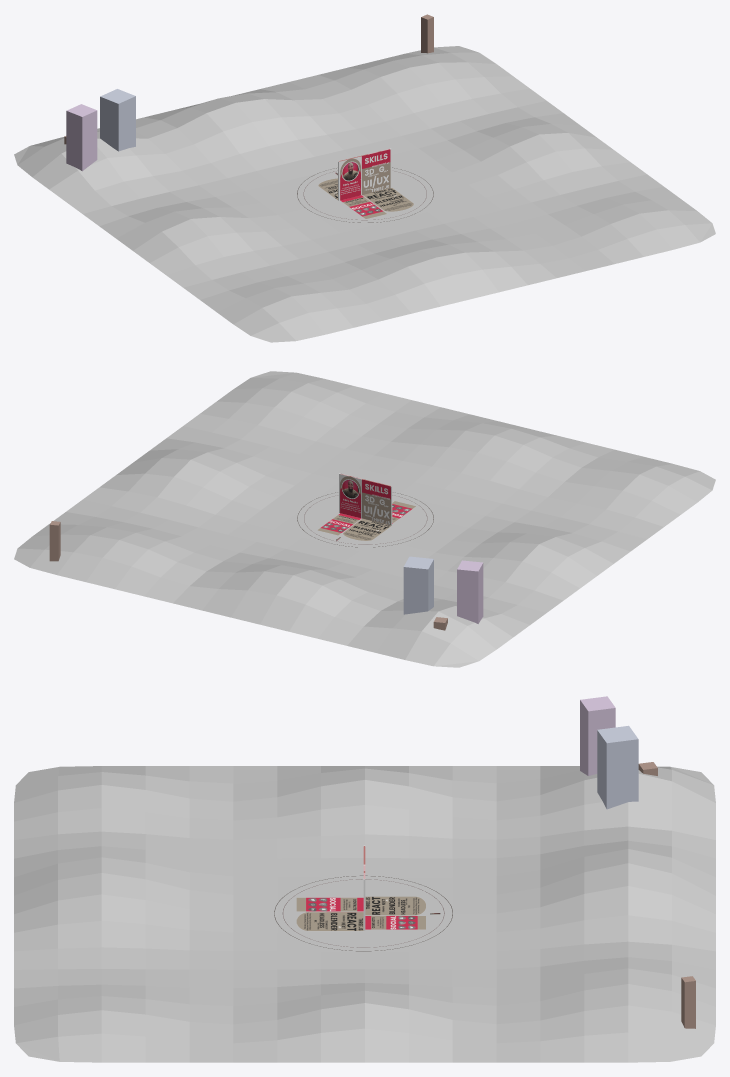
The model's file is cashewchoc.glb.
3 views of the same model, one above another, from view 1: azimuth 30°, elevation 25°; view 2: azimuth 150°, elevation 25°; view 3: azimuth 270°, elevation 25° (orthographic). The views are drawn at different scales.
Visible parts, largest first — view 1: Plane.007, Plane.003, Plane.001, Cube.007, Cube.008, bottom.002; view 2: Plane.007, Plane.003, Plane.002, Cube.007, Cube.008, bottom.003, Cube.009; view 3: Plane.007, Plane.003, Cube.007, bottom.002, bottom.003, Cube.008, Cube.009.
Boxes of the visible parts, x1,y1,x2,y2 form: Plane.007: (17,46,712,342); Plane.003: (14,146,715,241); Plane.001: (339,149,390,200); Cube.007: (100,89,135,151); Cube.008: (66,104,97,171); bottom.002: (340,188,413,218); Plane.007: (14,372,715,666); Plane.003: (252,371,477,667); Plane.002: (339,473,392,525); Cube.007: (403,556,433,614); Cube.008: (457,560,483,623); bottom.003: (317,513,391,540); Cube.009: (49,521,60,561); Plane.007: (14,766,715,1062); Plane.003: (16,767,713,1061); Cube.007: (597,725,638,809); bottom.002: (296,897,363,930); bottom.003: (365,896,425,929); Cube.008: (580,696,615,775); Cube.009: (681,976,695,1028).
Size of the model in its own units: 25.32 by 3.65 by 25.32.
12 materials, 3 textured.
